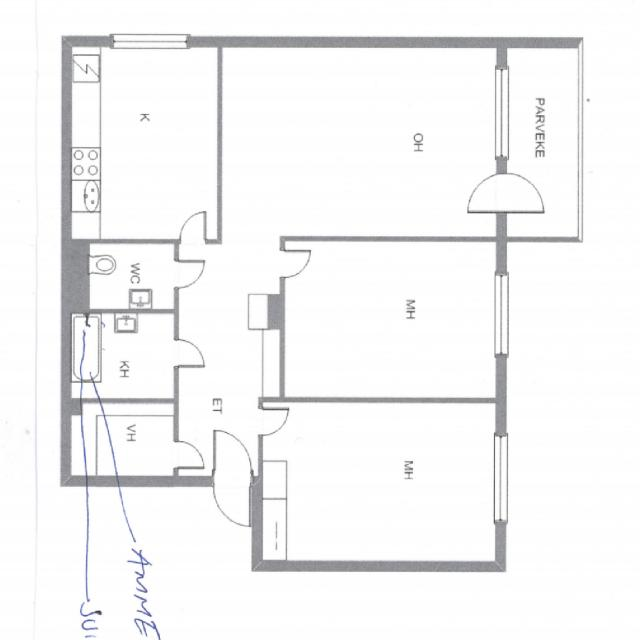door: (459, 174, 507, 212), (214, 436, 250, 486), (214, 475, 250, 525), (496, 174, 543, 212), (173, 441, 204, 468), (173, 339, 204, 366), (173, 261, 204, 287), (181, 212, 206, 244), (258, 408, 288, 434), (279, 250, 309, 276)
